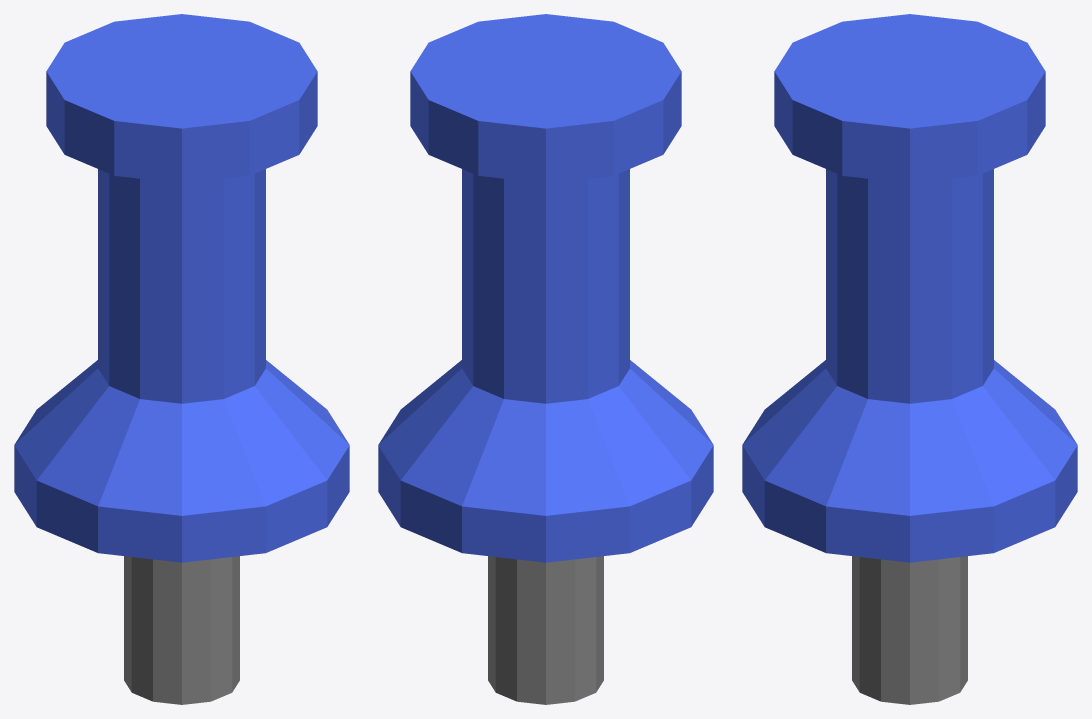
Rendered from tack.fbx.
3 views of the same model, side by side, from view 1: azimuth 30°, elevation 25°; view 2: azimuth 150°, elevation 25°; view 3: azimuth 270°, elevation 25° (orthographic).
Parts seen in each view (by area): view 1: Cylinder.001; view 2: Cylinder.001; view 3: Cylinder.001.
Boxes of the visible parts, x1,y1,x2,y2 form: Cylinder.001: (14,14,349,704); Cylinder.001: (378,14,713,704); Cylinder.001: (742,14,1077,704).
Bounding box in the file's own units: 32.26 × 64.64 × 32.26.
